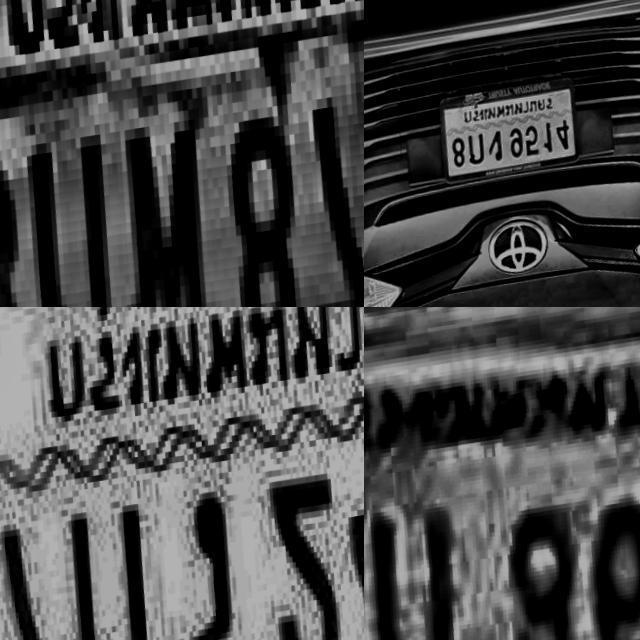license-plate: (0, 307, 364, 640), (0, 0, 364, 307), (364, 307, 640, 640), (433, 73, 590, 188)
